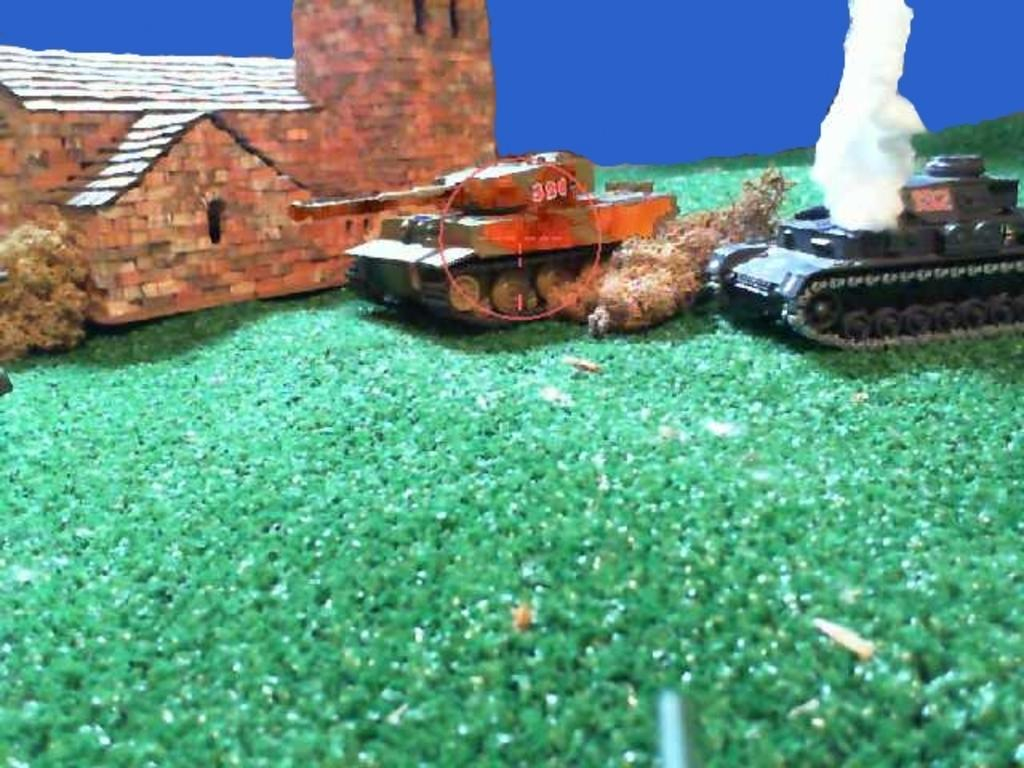Tank: (285, 147, 682, 328), (701, 154, 1022, 352)
